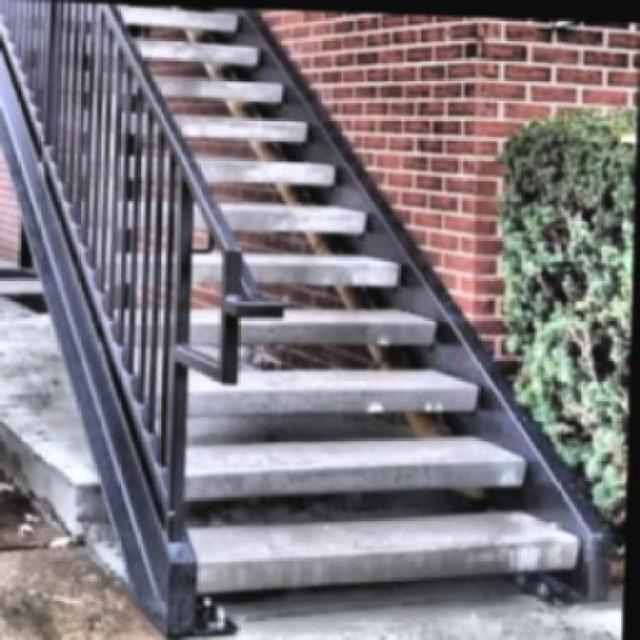stair: (0, 4, 625, 630)
